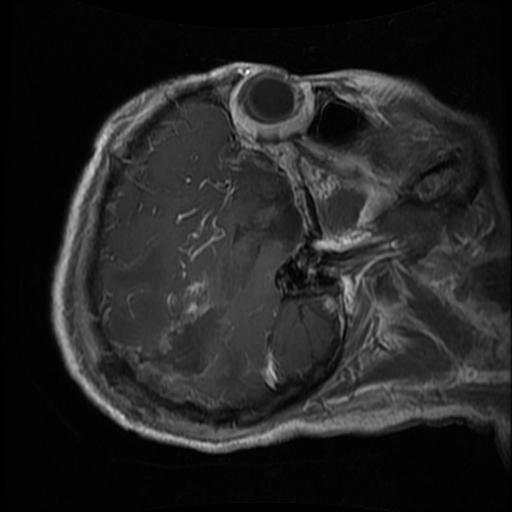glioma: (150, 305, 221, 380)
